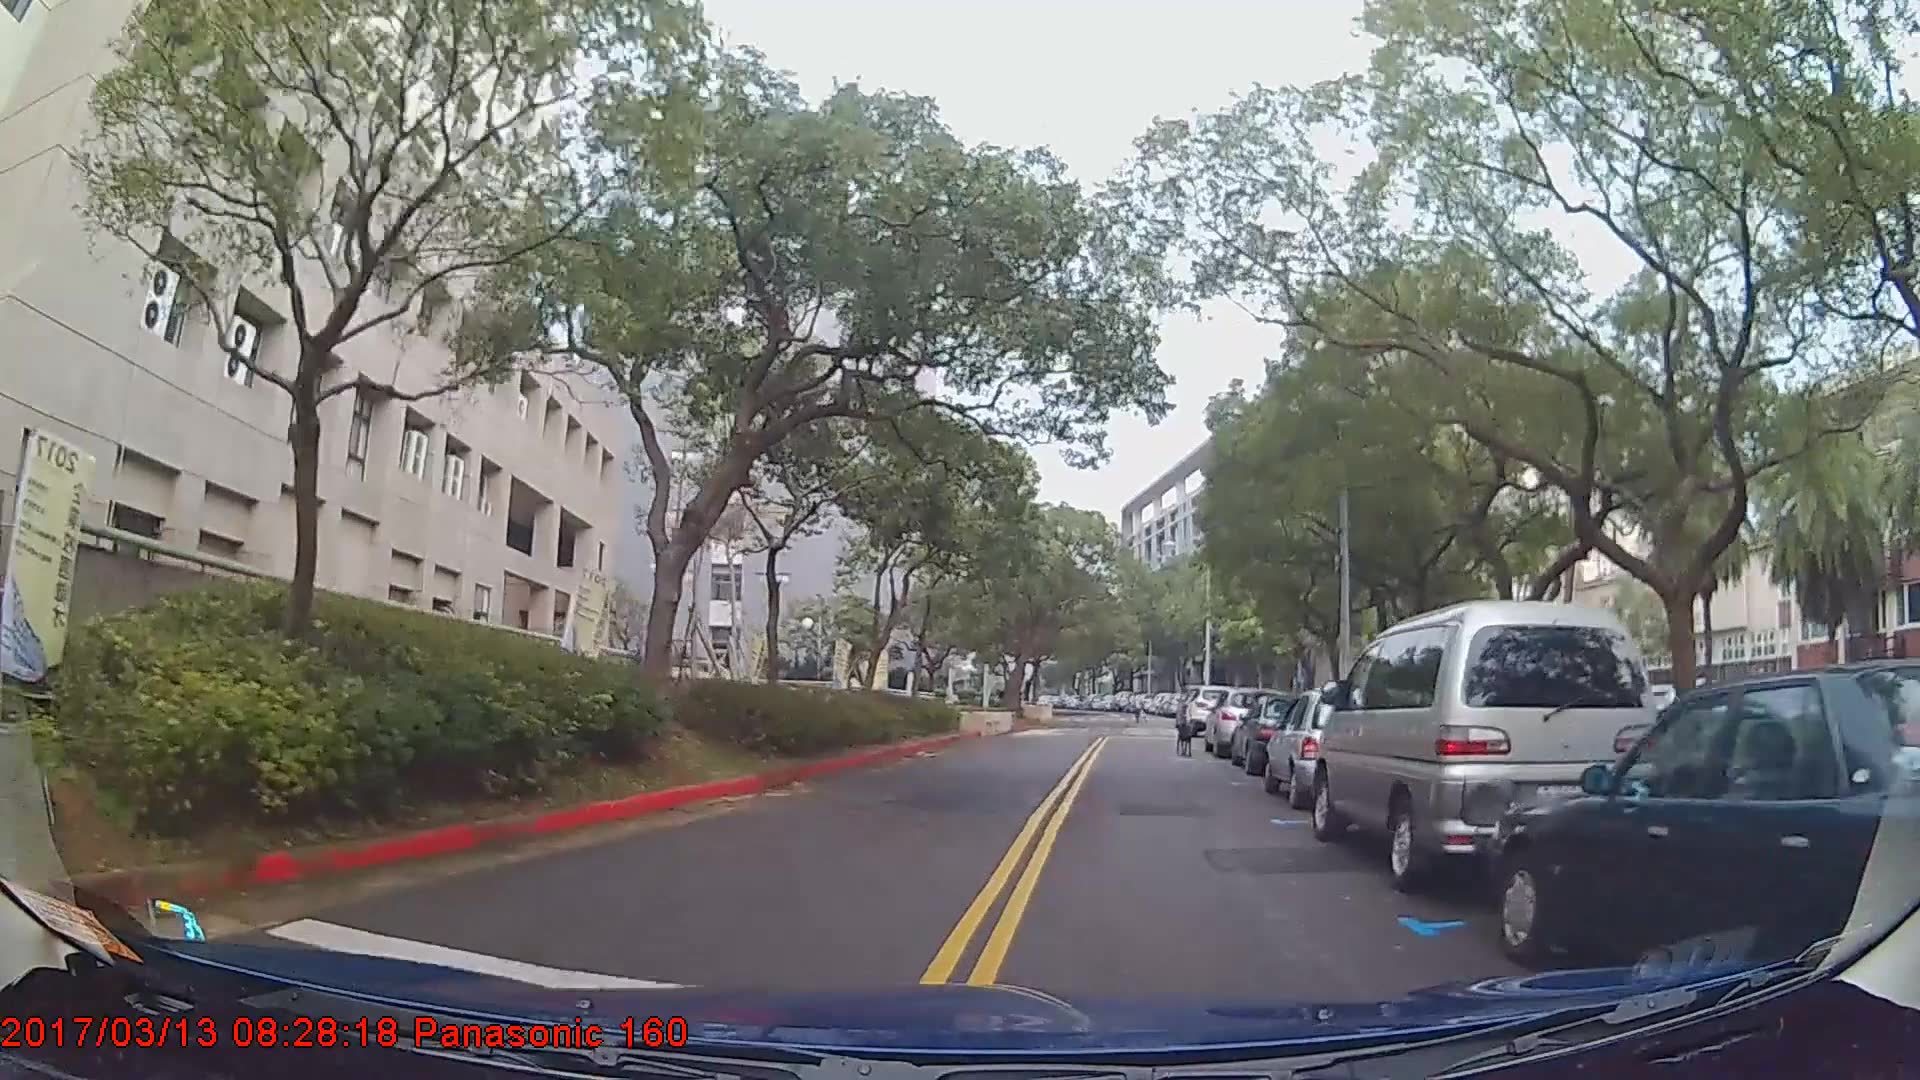vehicle: (1484, 659, 1919, 996), (1309, 597, 1662, 891)
